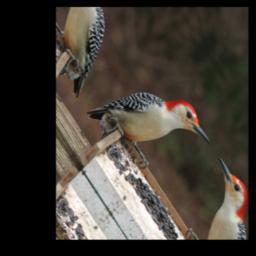Woodpecker: (84, 44, 214, 209)
